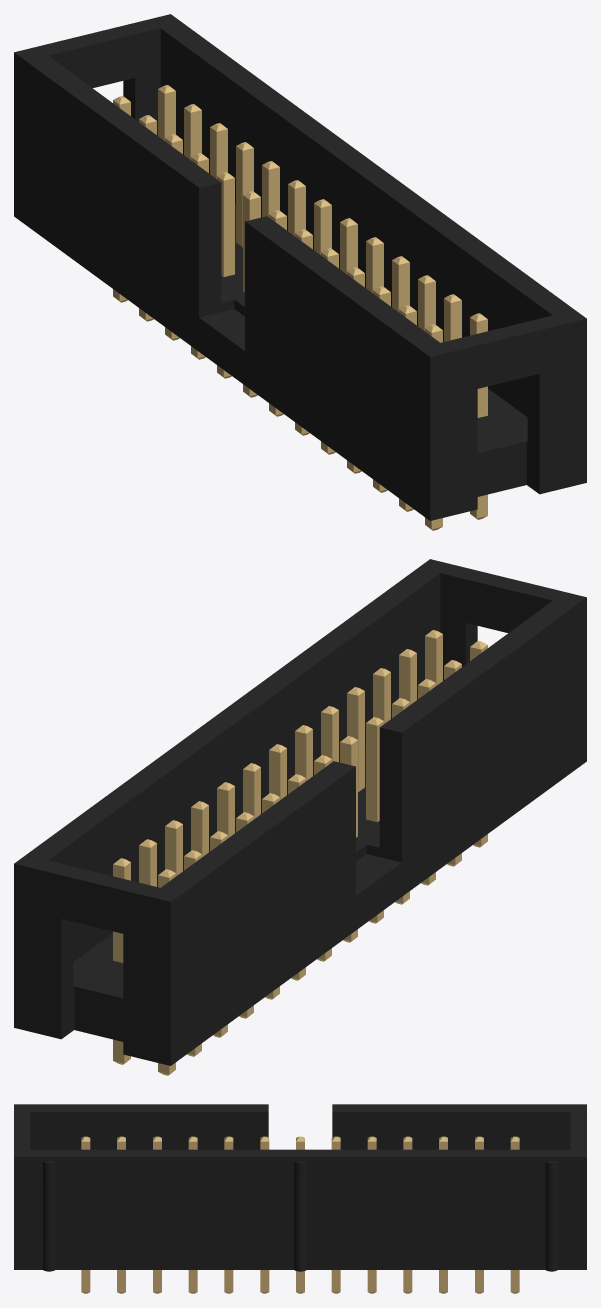
The model's file is kc-idc-header_2x13_p2.54mm_vertical.glb.
The picture shows the model from 3 angles, top to bottom: view 1: azimuth 30°, elevation 25°; view 2: azimuth 150°, elevation 25°; view 3: azimuth 270°, elevation 25°; orthographic projection. The views are drawn at different scales.
Parts seen in each view (by area): view 1: 0_0_0_0, 0.75_0.5_0.25_0.9; view 2: 0_0_0_0, 0.75_0.5_0.25_0.9; view 3: 0_0_0_0, 0.75_0.5_0.25_0.9.
Boxes of the visible parts, box(x1,y1,x2,y2) form: 0_0_0_0: box(14, 14, 586, 520); 0.75_0.5_0.25_0.9: box(113, 85, 487, 530); 0_0_0_0: box(14, 559, 586, 1065); 0.75_0.5_0.25_0.9: box(113, 630, 487, 1075); 0_0_0_0: box(14, 1104, 586, 1271); 0.75_0.5_0.25_0.9: box(81, 1136, 519, 1293).
Size of the model in its own units: 0.9098 by 1.21 by 4.07.
